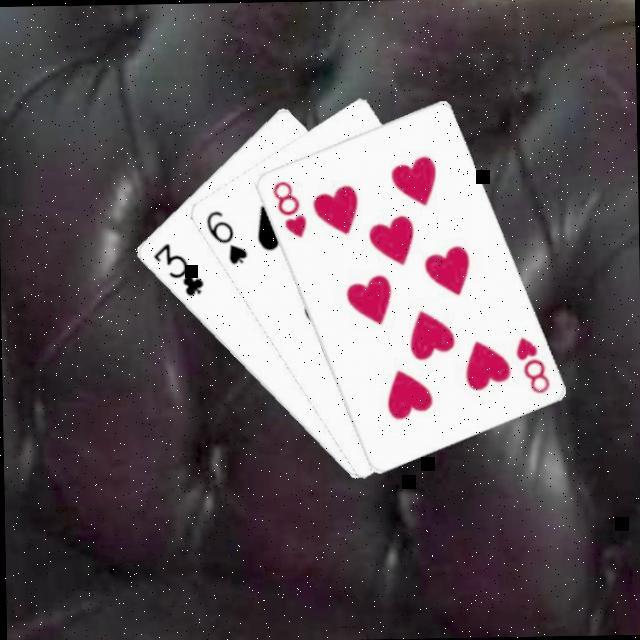3C: (146, 237, 205, 298)
6S: (199, 204, 248, 266)
8H: (266, 175, 308, 240), (509, 331, 551, 395)
